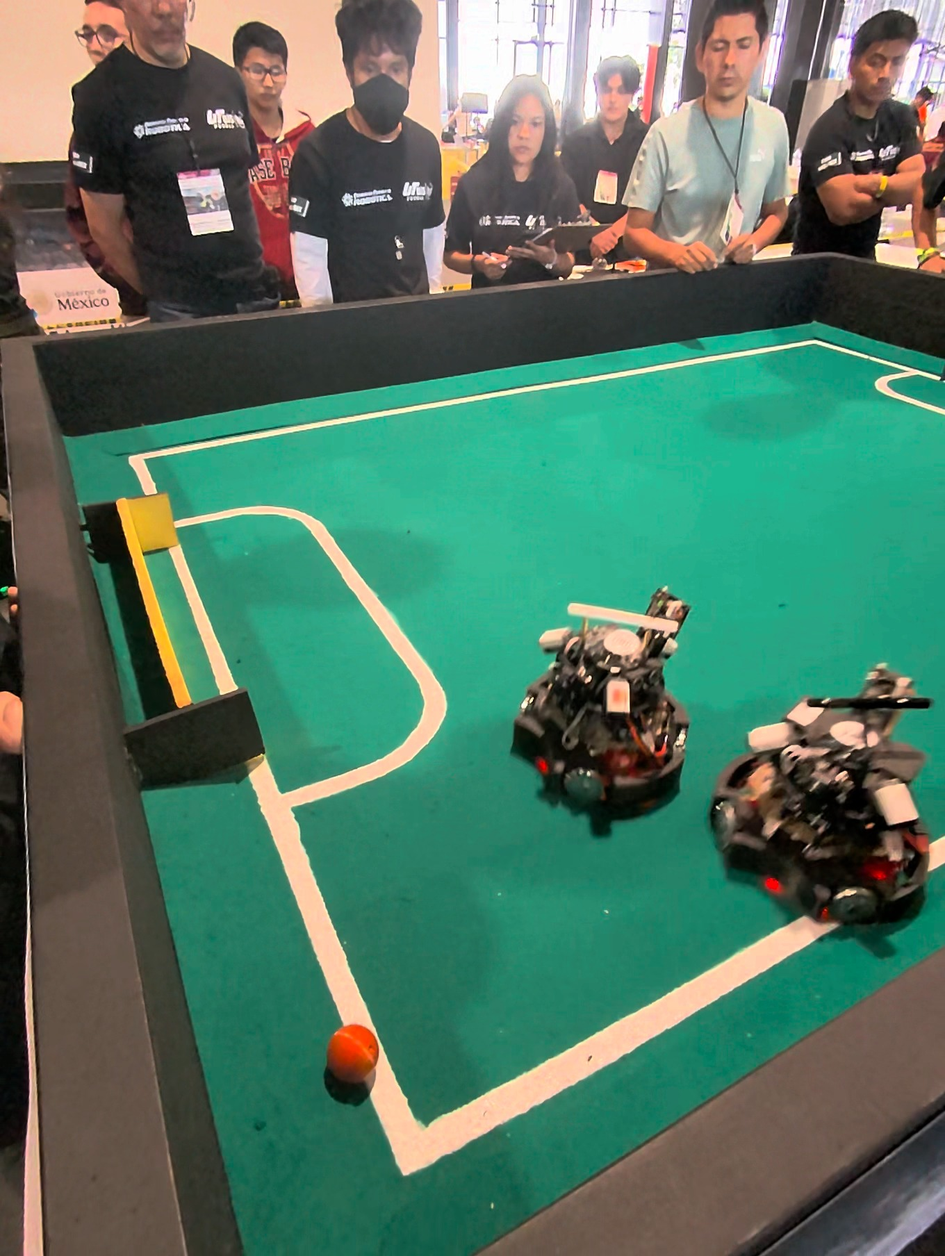Robot: (705, 673, 944, 943), (509, 573, 699, 845)
pelota: (327, 1024, 380, 1103)
